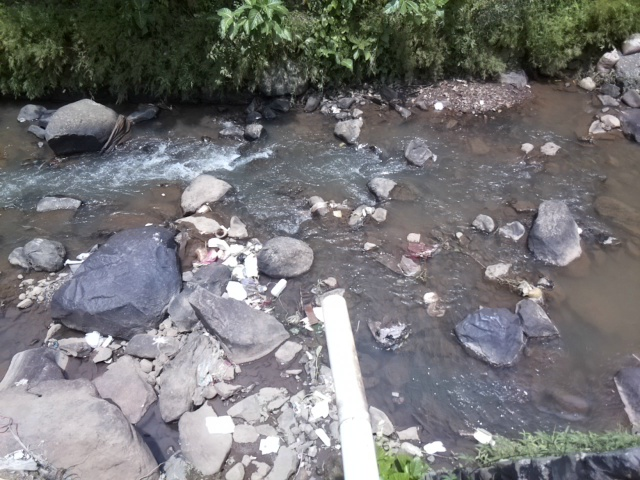Sampah_Plastik: (406, 240, 435, 259), (196, 250, 218, 266), (85, 331, 104, 349), (230, 266, 249, 283), (235, 252, 248, 262)
Sampah_Styrofoam: (203, 415, 239, 435), (223, 281, 249, 303), (208, 237, 231, 261), (258, 434, 282, 455), (268, 278, 290, 298), (244, 254, 260, 280)
